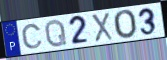2: (67, 14, 93, 48)
3: (137, 6, 160, 37)
C: (21, 23, 45, 50)
O: (112, 9, 138, 41)
Q: (44, 18, 69, 49)
X: (89, 11, 114, 43)
